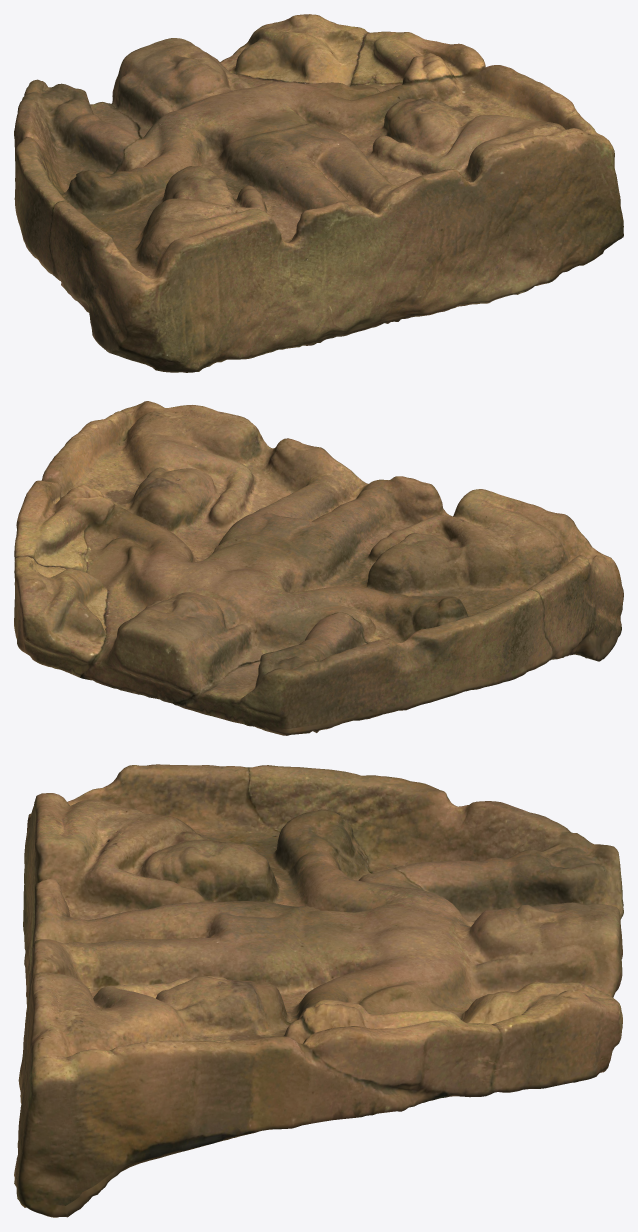
File: MysonMuseum_warehousephudieu3_final.glb
The picture shows the model from 3 angles, top to bottom: view 1: azimuth 30°, elevation 25°; view 2: azimuth 150°, elevation 25°; view 3: azimuth 270°, elevation 25°; orthographic projection. The views are drawn at different scales.
Bounding box in the file's own units: 0.6535 × 0.1889 × 0.5171.
Materials: 1 (1 with a texture image).
